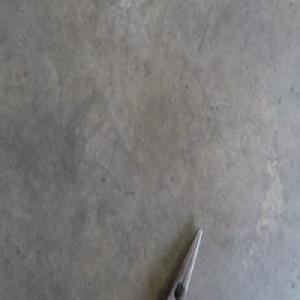Pliers: (166, 226, 202, 298)
